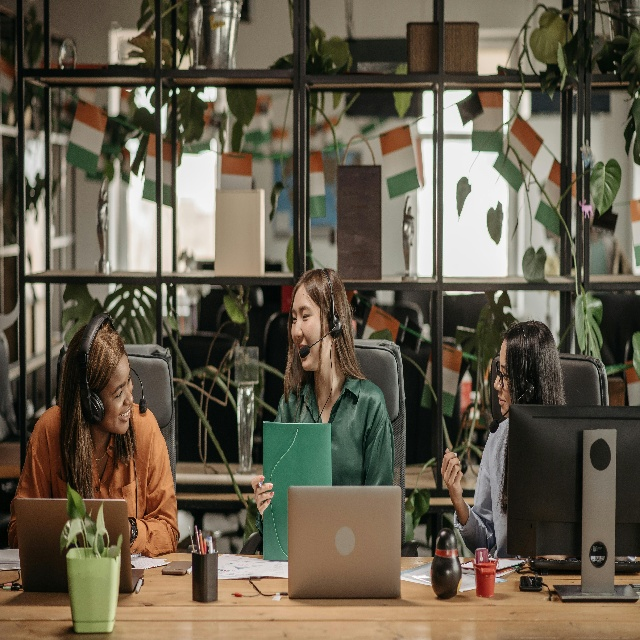Gafas: (495, 359, 510, 389)
Sin_guantes: (440, 447, 464, 501), (251, 473, 275, 515)
